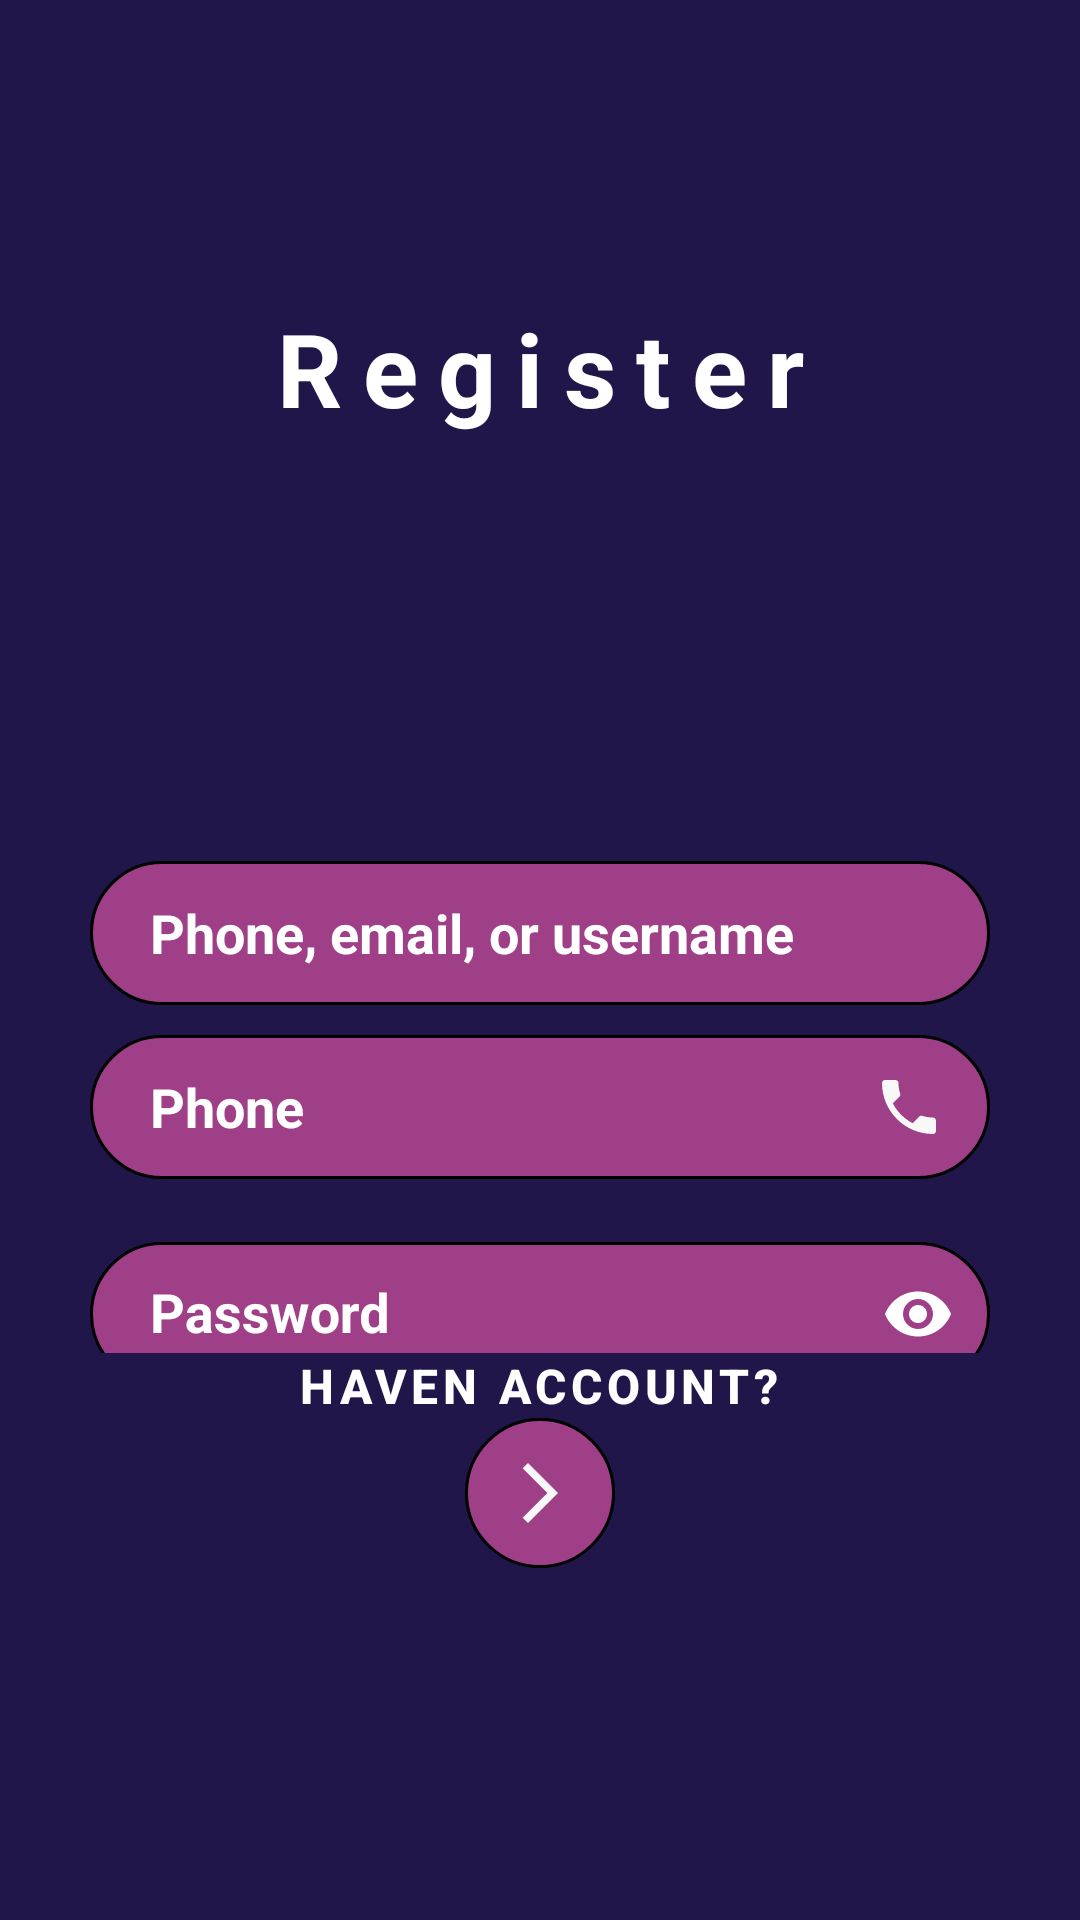

Icon bounding boxes for this 1080×1920 phone screenshot, format (x1, y1, x2, y2):
arrow forward: (465, 1418, 615, 1568)
